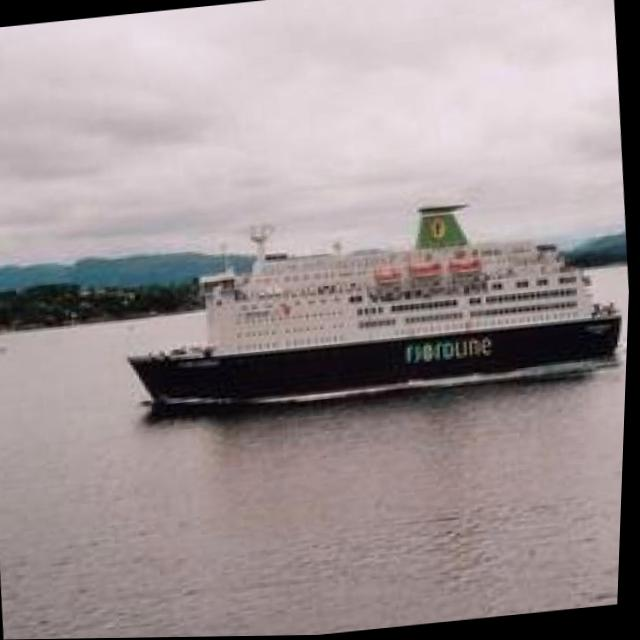ship2: (132, 207, 626, 421)
